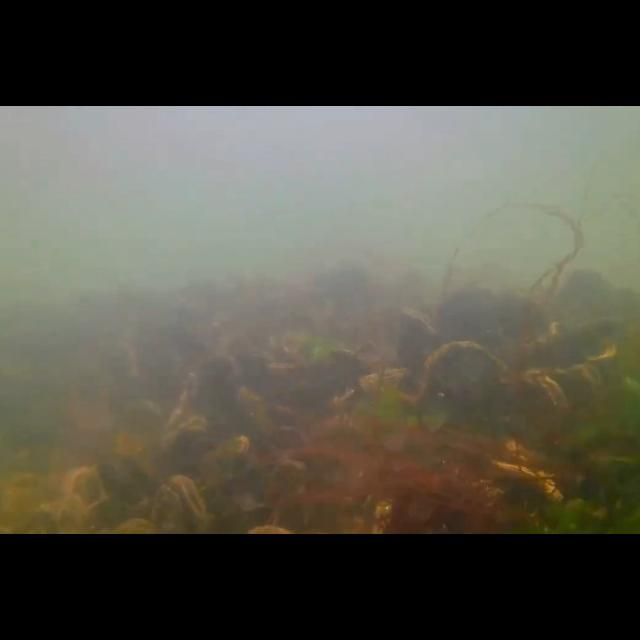Oyster-Closed: (396, 306, 442, 389), (492, 460, 566, 504), (360, 366, 416, 396), (201, 436, 251, 468)
Oyster-Indeterminate: (416, 341, 518, 414), (496, 369, 572, 431), (193, 354, 241, 434), (544, 363, 614, 412), (236, 388, 276, 440), (170, 372, 200, 432), (504, 438, 564, 468), (164, 416, 210, 452), (328, 347, 370, 383)
Oyster-Open: (152, 476, 206, 534)
